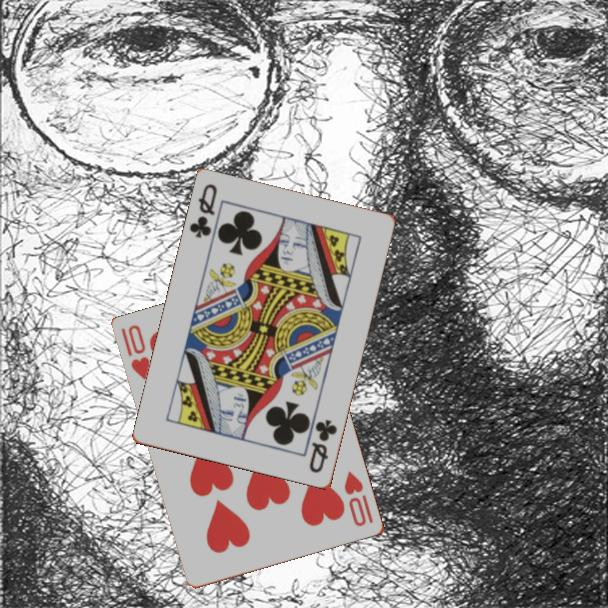c12: (306, 416, 340, 476), (186, 181, 220, 241)
h10: (341, 468, 376, 530), (118, 321, 153, 383)
